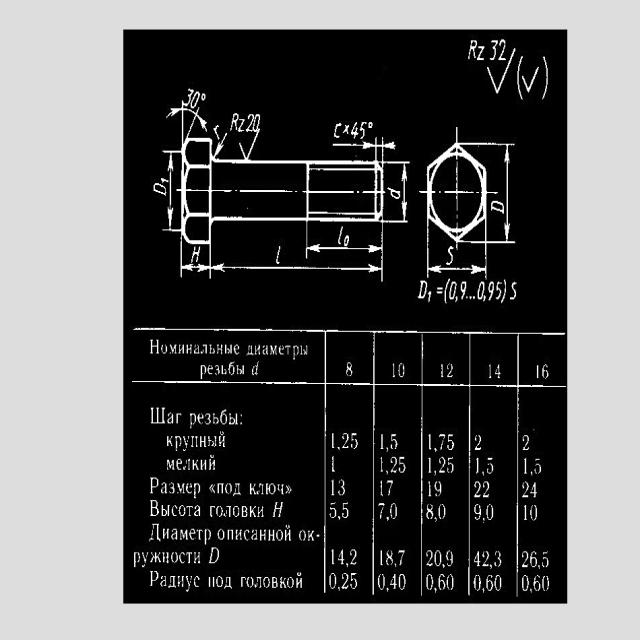marking_line: (207, 245, 386, 282), (487, 143, 519, 244), (305, 222, 384, 259), (426, 244, 488, 280), (159, 149, 181, 235), (383, 162, 411, 224), (333, 141, 400, 161), (181, 239, 212, 280), (167, 107, 208, 135), (215, 134, 228, 157)
numeric: (385, 184, 402, 202), (182, 87, 192, 107), (490, 40, 499, 61), (190, 92, 201, 109), (490, 202, 504, 215), (332, 123, 343, 139), (449, 280, 457, 302), (446, 245, 454, 267), (499, 39, 507, 61), (253, 113, 262, 132), (337, 478, 346, 497), (438, 503, 447, 521), (399, 455, 407, 474), (459, 280, 466, 301), (345, 360, 353, 378), (329, 572, 337, 590), (350, 548, 358, 566), (397, 549, 405, 567), (390, 456, 398, 474), (447, 432, 455, 450), (477, 281, 484, 301), (341, 433, 349, 450), (351, 432, 359, 449), (341, 572, 349, 589), (390, 503, 398, 520), (386, 480, 394, 497), (438, 456, 446, 473), (398, 574, 406, 591), (446, 573, 454, 590), (473, 575, 481, 592), (486, 504, 494, 521), (530, 504, 538, 521), (542, 551, 550, 568), (351, 571, 358, 590), (337, 549, 345, 565), (390, 433, 398, 449), (435, 481, 443, 497), (522, 482, 530, 498), (521, 551, 529, 567), (521, 575, 529, 591), (533, 575, 541, 591), (246, 113, 252, 134), (359, 121, 366, 139), (488, 281, 494, 302), (330, 501, 337, 519), (446, 550, 453, 568), (530, 550, 537, 568), (351, 122, 358, 139), (342, 501, 349, 518), (386, 549, 393, 566), (378, 503, 385, 520), (427, 503, 434, 520), (426, 550, 433, 567), (435, 550, 442, 567), (486, 575, 493, 592), (542, 575, 549, 592), (496, 281, 502, 300), (542, 364, 549, 380), (447, 457, 454, 473), (378, 574, 385, 590), (426, 574, 433, 590), (495, 575, 502, 591), (474, 481, 481, 497), (487, 458, 494, 474), (523, 435, 530, 451), (398, 363, 405, 378), (439, 574, 445, 591), (495, 550, 501, 567), (483, 481, 489, 498), (475, 434, 481, 450), (390, 573, 396, 589), (475, 504, 481, 520), (535, 458, 541, 474), (531, 482, 537, 498), (447, 364, 454, 377), (330, 548, 335, 566), (439, 433, 444, 451), (474, 551, 480, 566), (482, 551, 488, 566), (379, 549, 384, 566), (495, 365, 501, 379), (391, 363, 396, 379), (331, 455, 335, 474), (331, 478, 335, 497), (428, 479, 432, 497), (331, 432, 335, 449), (380, 433, 384, 450), (380, 456, 384, 473), (475, 457, 479, 474), (428, 434, 432, 450), (428, 457, 432, 473), (524, 505, 528, 521), (536, 364, 540, 379), (488, 364, 492, 378), (380, 479, 383, 496), (524, 457, 527, 474), (440, 363, 443, 378)
special_symbol: (485, 63, 513, 95), (239, 131, 259, 159), (522, 66, 540, 94), (540, 56, 549, 102), (517, 56, 525, 102), (275, 245, 282, 266), (343, 123, 349, 134), (367, 122, 374, 129), (202, 92, 207, 100), (433, 587, 438, 594), (337, 514, 341, 522), (481, 586, 485, 594), (385, 516, 390, 522), (337, 586, 341, 593), (489, 564, 493, 571), (337, 445, 341, 451), (385, 469, 388, 477), (442, 563, 446, 569), (434, 469, 437, 477), (482, 518, 486, 524), (386, 586, 389, 593), (434, 516, 437, 523), (434, 446, 437, 453), (482, 470, 485, 477), (532, 429, 536, 434), (394, 562, 397, 568), (538, 564, 541, 570), (530, 471, 533, 477), (386, 445, 388, 453), (529, 588, 532, 593)
